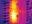Hotspot: (10, 1, 18, 23)
